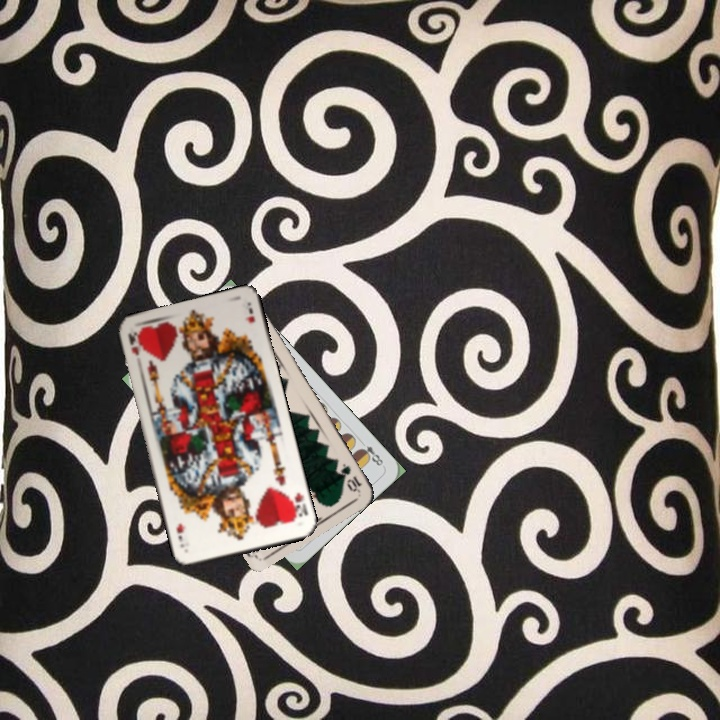E8: (355, 436, 386, 469)
G10: (337, 459, 365, 494)
HK: (285, 488, 310, 524), (124, 328, 142, 357)
